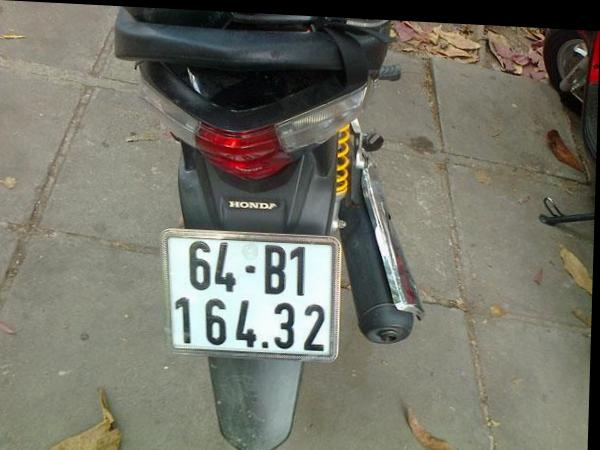License_Plate: (162, 230, 340, 364)
